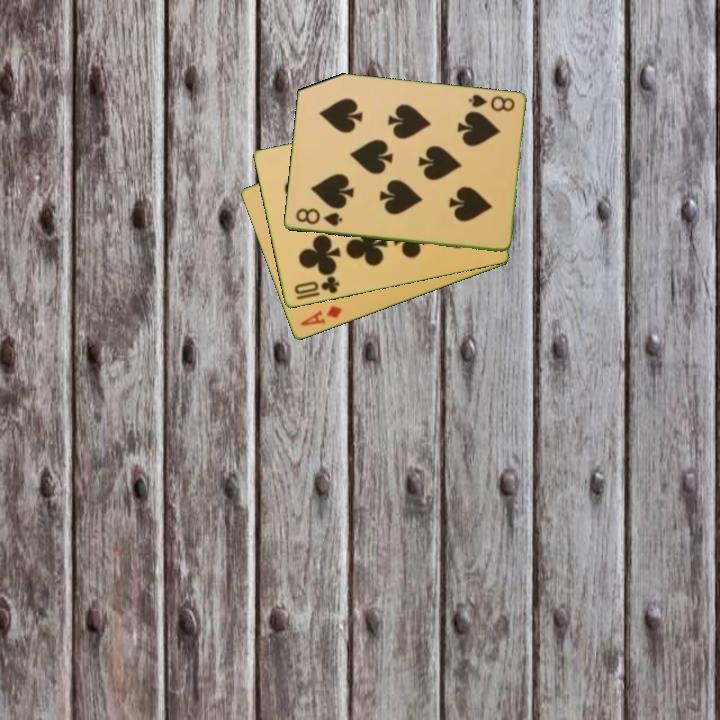10c: (290, 273, 342, 297)
8s: (292, 205, 345, 229), (465, 91, 517, 115)
Ad: (297, 302, 345, 329)
